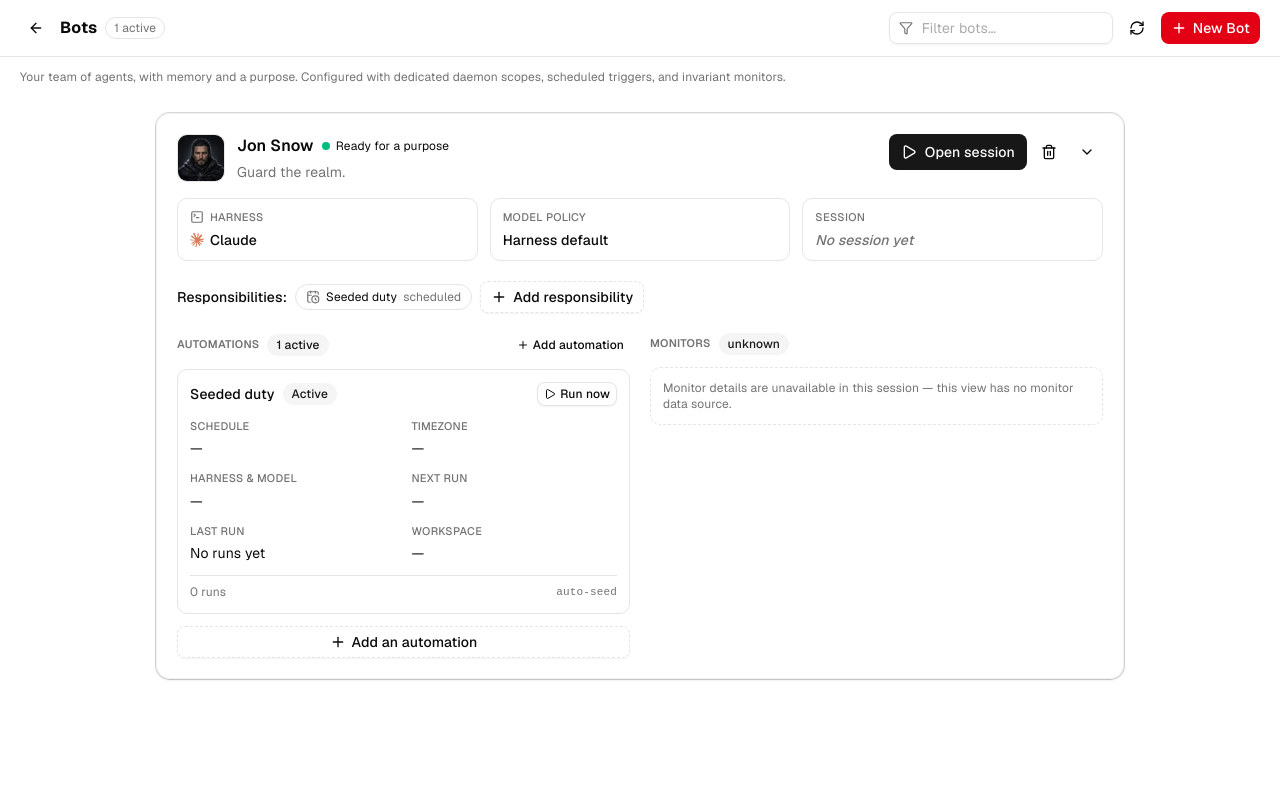
Test case: bot open session › surfaces a daemon-unreachable transport failure honestly
Click the button with test id "open-session-bot-1" at (958, 152), box 889,134 -> 1027,170
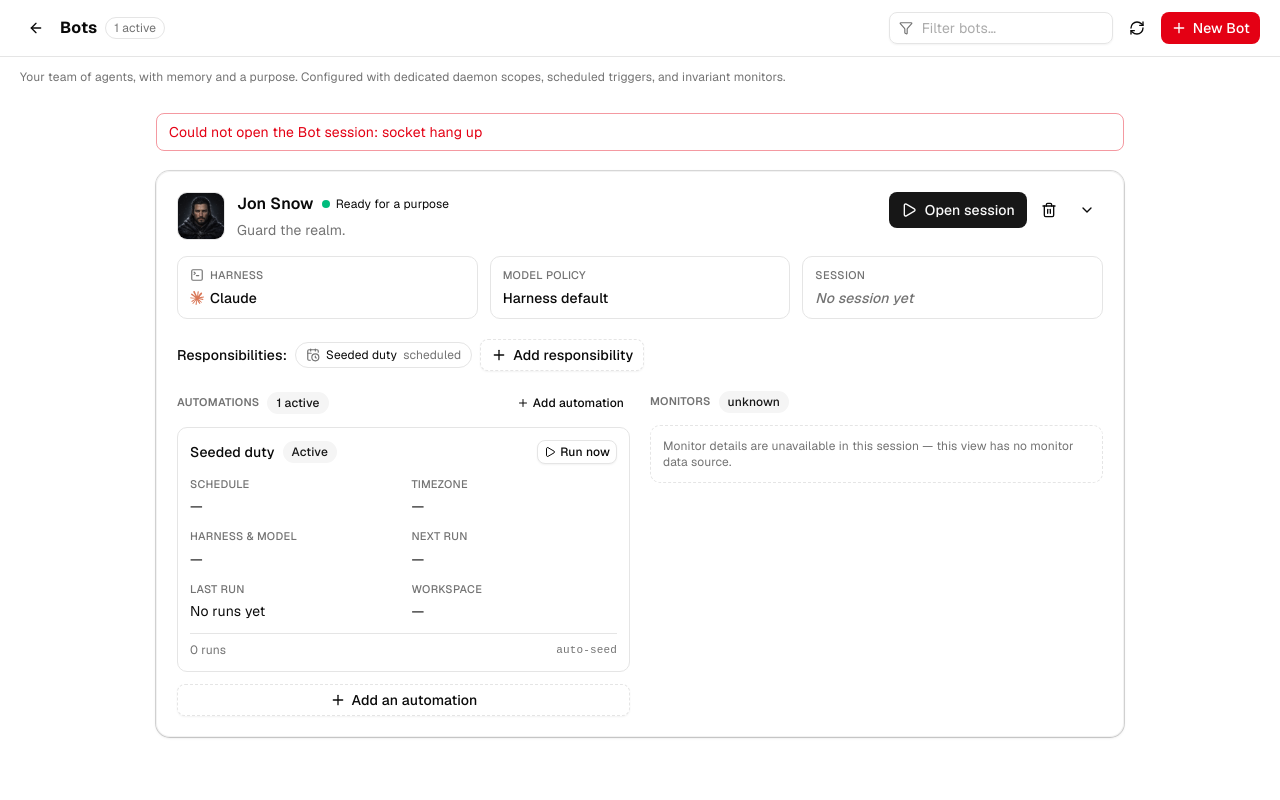
Expected: the message shows "socket hang up", 169,123 -> 483,141
